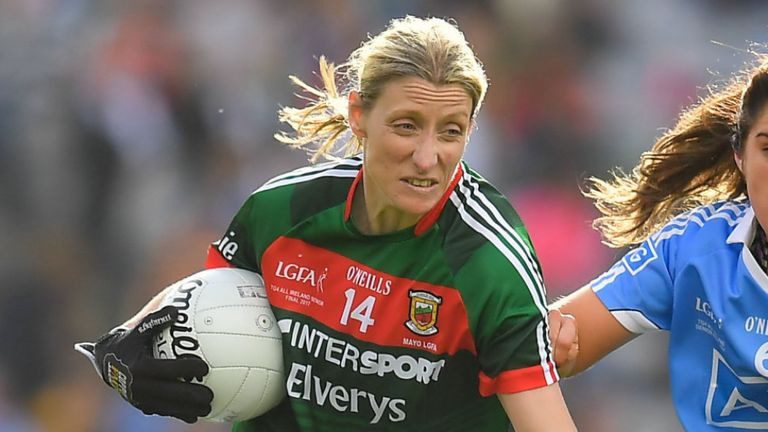ball: (139, 259, 294, 420)
player: (203, 7, 580, 419)
